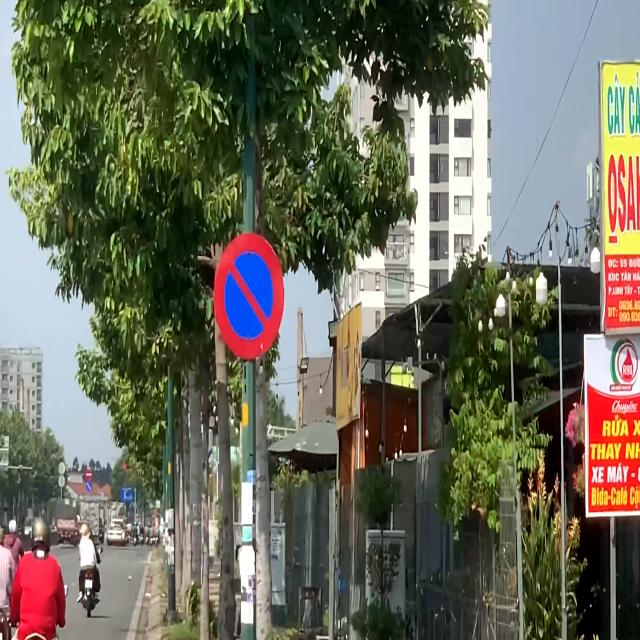P.102: (85, 468, 93, 482)
P.131a: (210, 226, 290, 374)
R.302a: (86, 482, 92, 492)
